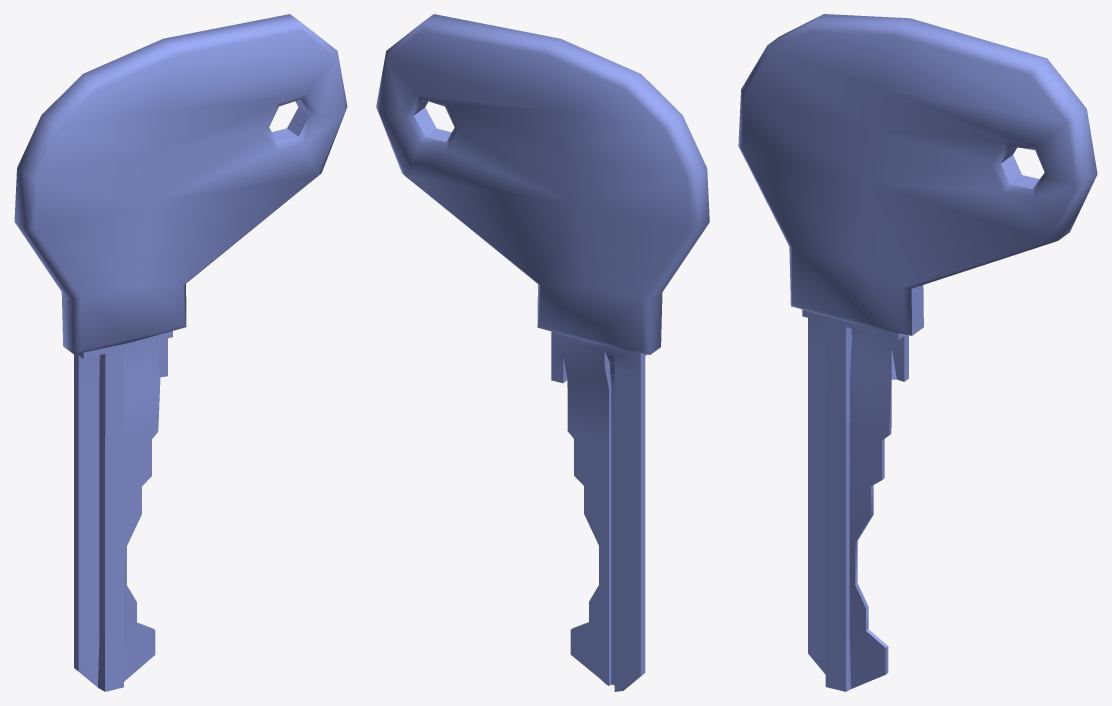
Rendered from Keys_40.FBX.
The picture shows the model from 3 angles, left to right: view 1: azimuth 30°, elevation 25°; view 2: azimuth 150°, elevation 25°; view 3: azimuth 330°, elevation 25°; orthographic projection. The views are drawn at different scales.
Visible parts, largest first — view 1: Keys_40; view 2: Keys_40; view 3: Keys_40.
Part boxes in pixels (x1=…): Keys_40: x1=14, y1=14, x2=347, y2=691; Keys_40: x1=376, y1=14, x2=709, y2=691; Keys_40: x1=738, y1=14, x2=1097, y2=691.
Bounding box in the file's own units: 1.3 × 2.43 × 0.1158.
